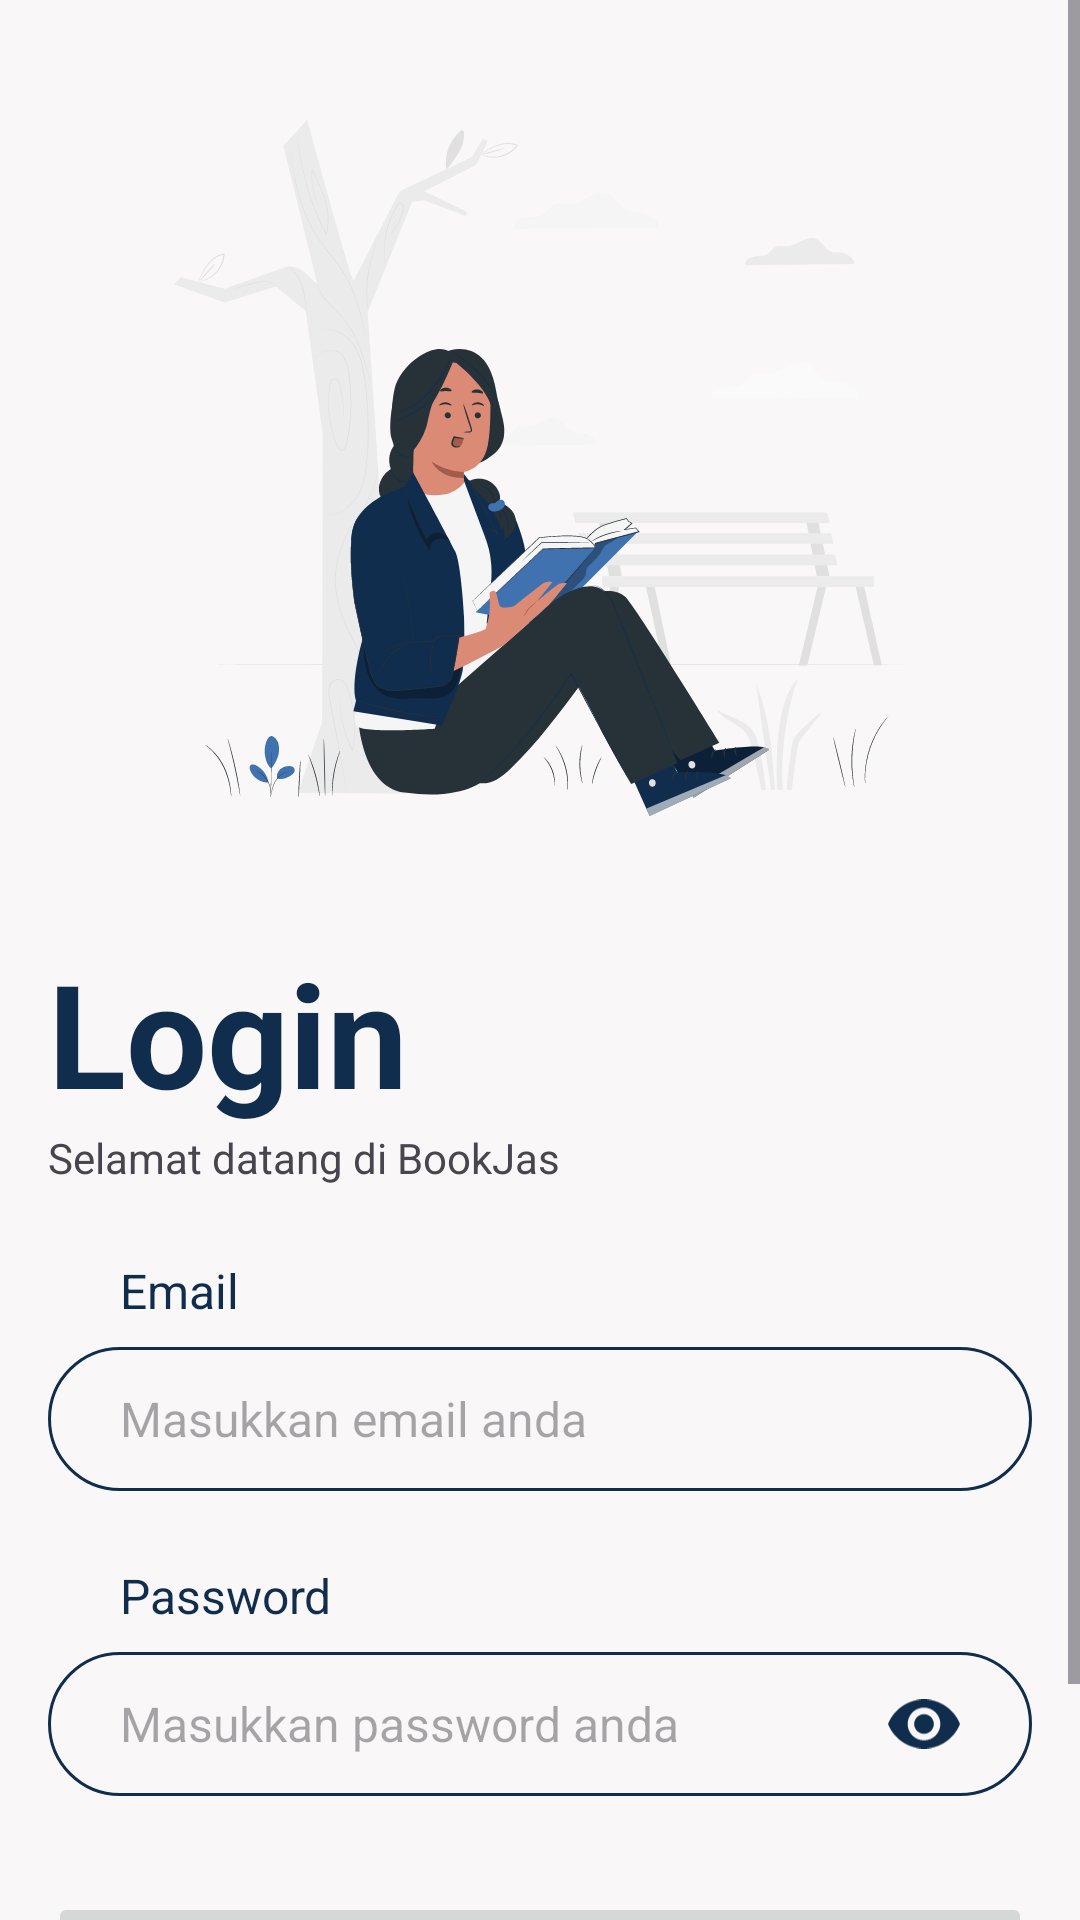

Named icons in this screenshot (1080 x 1920) and their centers, [x,y]:
show password: [924,1724]
